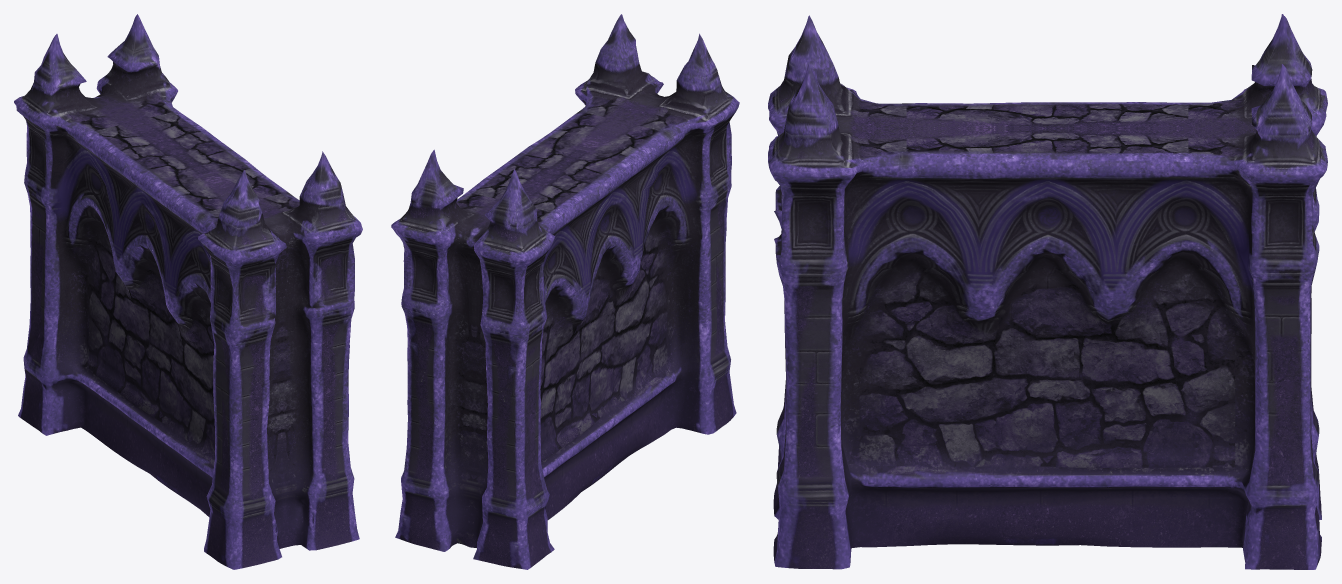
The model's file is Wall1.fbx.
3 renders of one model, left to right at view 1: azimuth 30°, elevation 25°; view 2: azimuth 150°, elevation 25°; view 3: azimuth 270°, elevation 25°, orthographic. The views are drawn at different scales.
Parts seen in each view (by area): view 1: Wall1; view 2: Wall1; view 3: Wall1.
Boxes of the visible parts, bbox=[...] form: Wall1: bbox=[14, 14, 362, 569]; Wall1: bbox=[391, 14, 739, 569]; Wall1: bbox=[768, 14, 1327, 569].
Size of the model in its own units: 2.11 by 5.47 by 5.67.
1 material, 1 textured.
